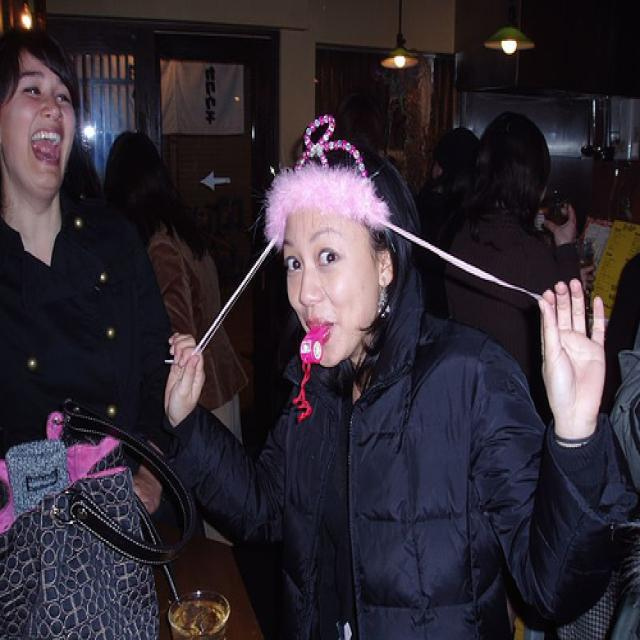People: (256, 108, 477, 591), (0, 29, 168, 463), (495, 101, 589, 389)
